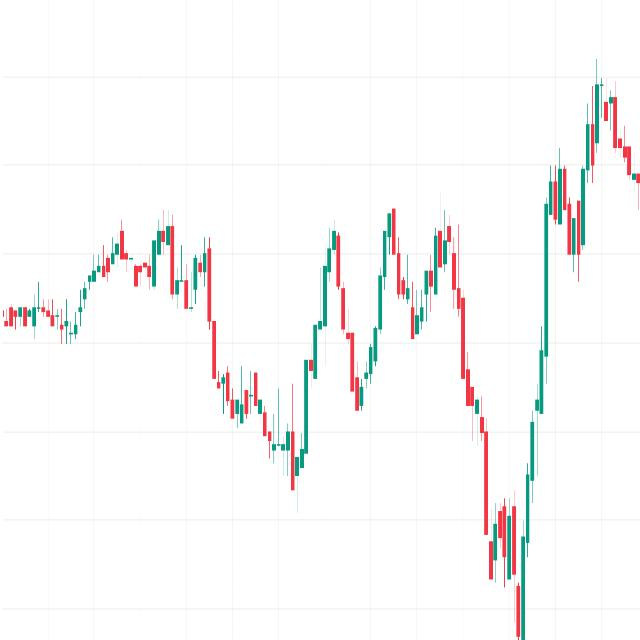Triple-Top: (292, 184, 486, 423)
